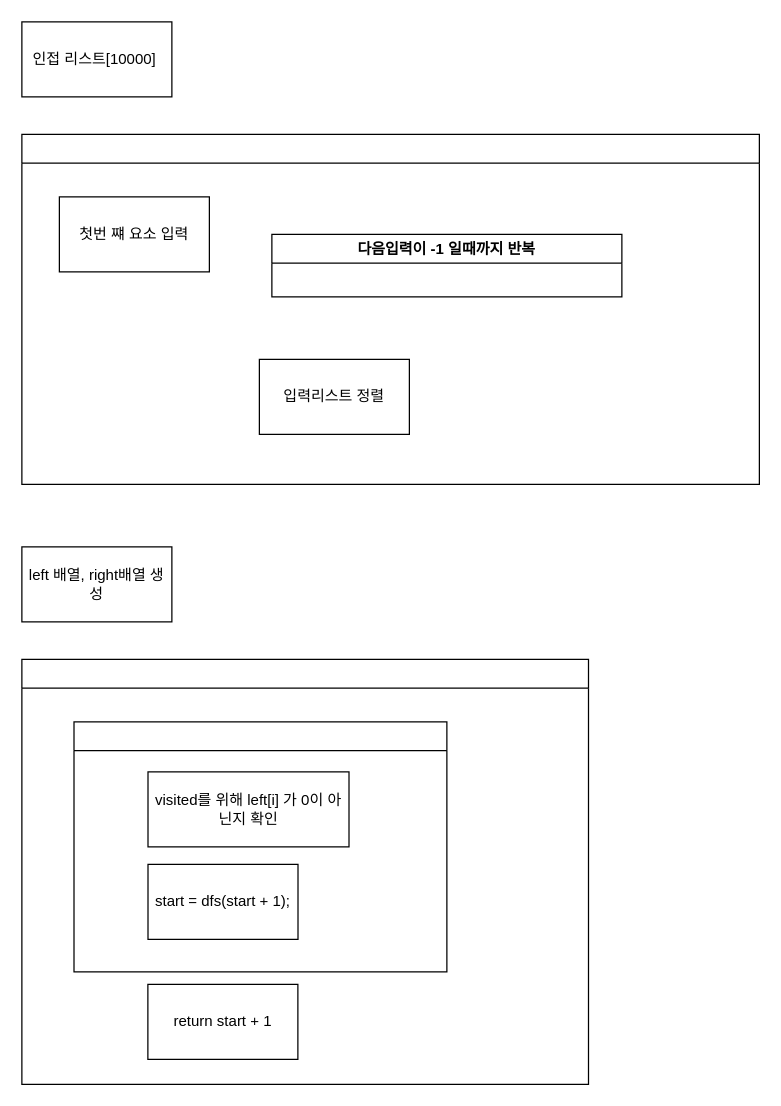
The diagram is 781 pixels wide and 1106 high, and some of its shapes have lost their labels. Here are the shapes that lost their labels. From the top down, the box of each, then its label:
(21, 133, 759, 484): 입력파트 N번 반복
(73, 721, 447, 972): 모든 자식 요소에 대해서 반복
(21, 658, 588, 1084): int Dfs(int start, int node)
